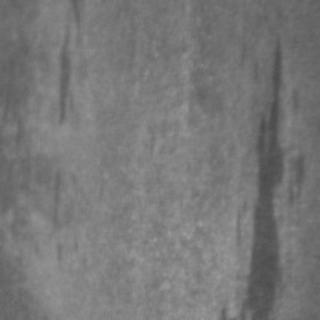inclusion: (234, 31, 304, 315), (46, 0, 90, 130), (42, 172, 74, 230)
